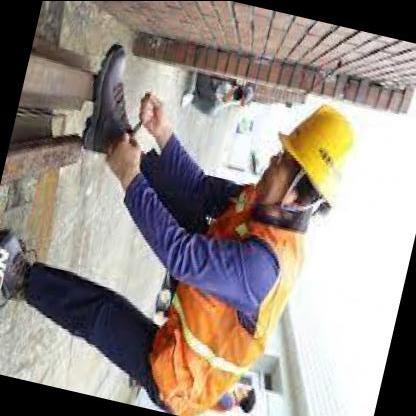Helmet: (269, 87, 375, 214)
safety-shoe: (60, 39, 154, 174), (1, 203, 49, 320)
